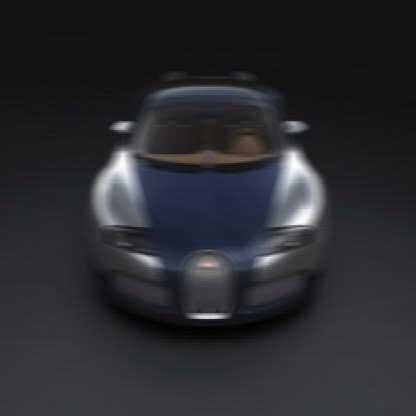Vehicle: (92, 71, 330, 328)
